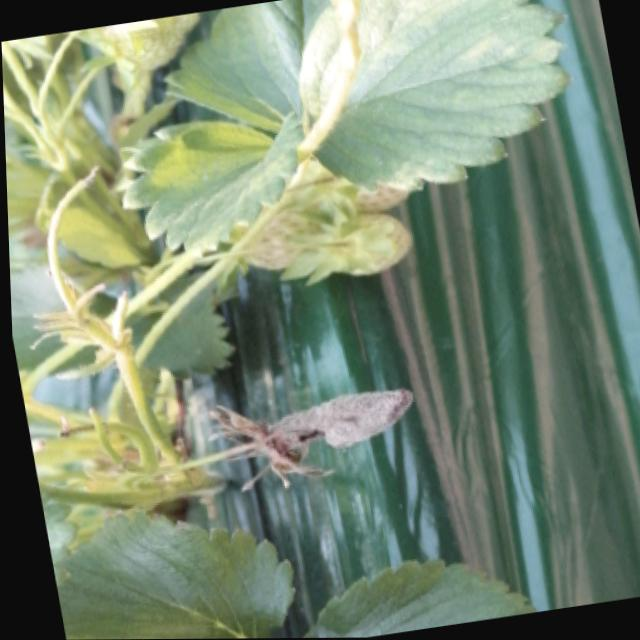Gray Mold: (207, 388, 411, 493)
